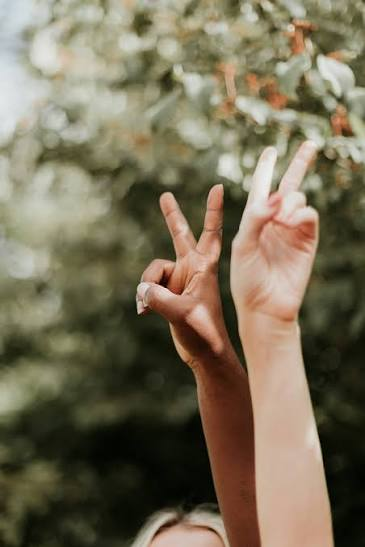peace_sign: (102, 157, 229, 363), (224, 127, 331, 328)
